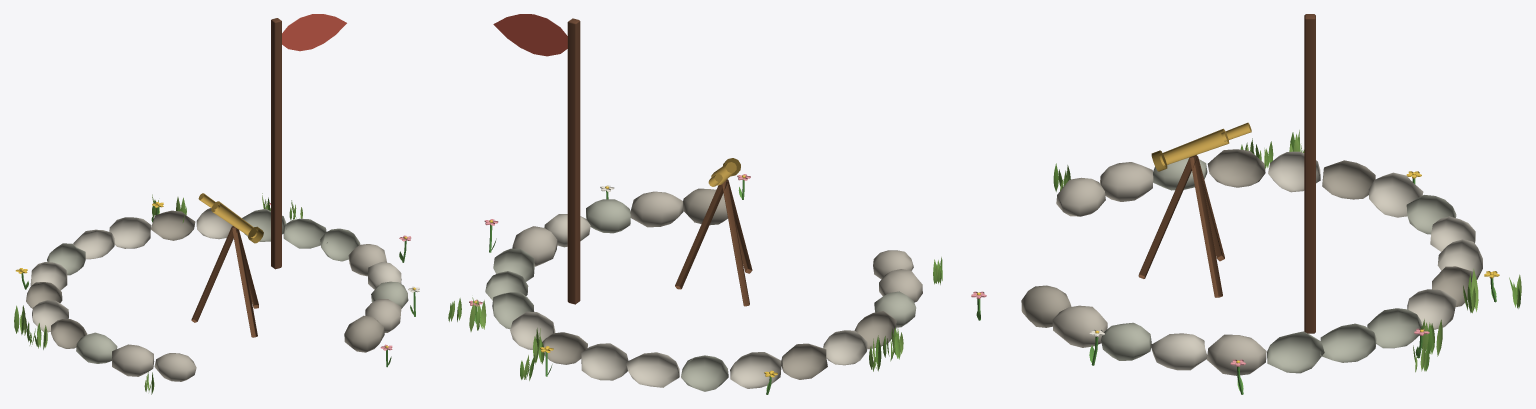
The model's file is lookout.glb.
The picture shows the model from 3 angles, left to right: view 1: azimuth 30°, elevation 25°; view 2: azimuth 150°, elevation 25°; view 3: azimuth 270°, elevation 25°; orthographic projection. The views are drawn at different scales.
Parts seen in each view (by area): view 1: Lookout, Pennant; view 2: Lookout, Pennant; view 3: Lookout.
Boxes of the visible parts, <box> form: Lookout: <box>14,18,419,394</box>; Pennant: <box>282,14,346,51</box>; Lookout: <box>448,18,942,394</box>; Pennant: <box>493,14,567,56</box>; Lookout: <box>971,14,1521,394</box>.
Bounding box in the file's own units: 4.73 × 3.03 × 4.73.
